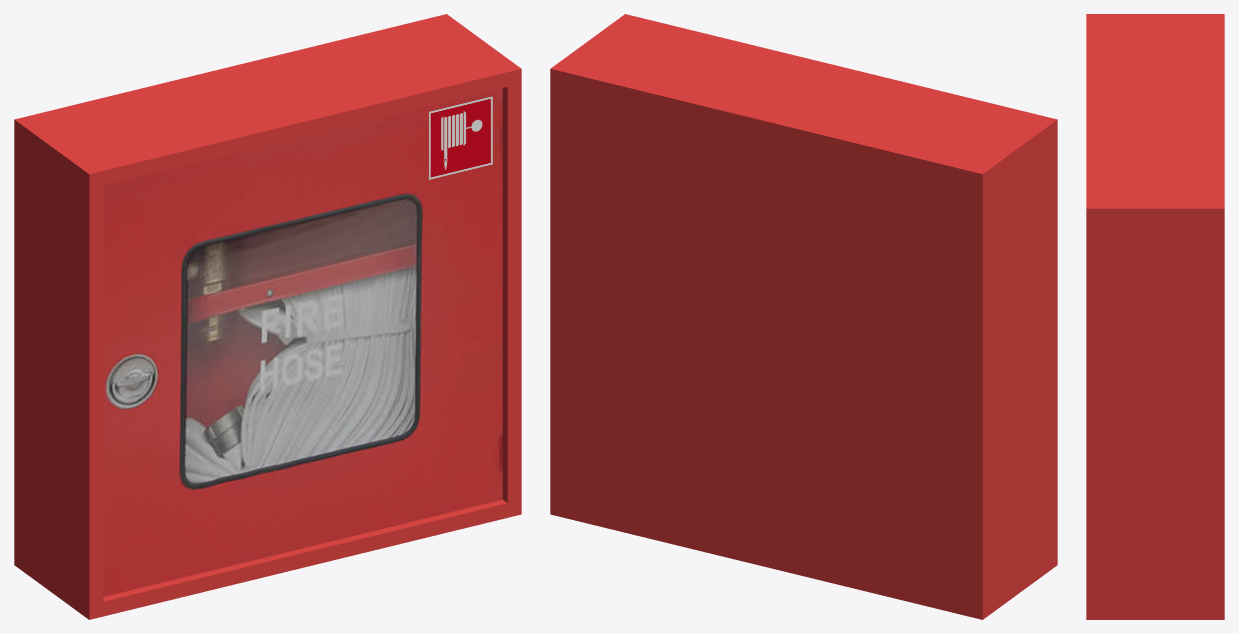
Rendered from Fire Hose.fbx.
3 renders of one model, left to right at view 1: azimuth 30°, elevation 25°; view 2: azimuth 150°, elevation 25°; view 3: azimuth 270°, elevation 25°, orthographic. The views are drawn at different scales.
Visible parts, largest first — view 1: Fire Hose; view 2: Fire Hose; view 3: Fire Hose.
Part boxes in pixels (box(x1,y1,x2,y2)): Fire Hose: box(14, 14, 521, 619); Fire Hose: box(550, 14, 1057, 619); Fire Hose: box(1086, 14, 1224, 619).
Bounding box in the file's own units: 60.05 × 59.15 × 18.
1 material, 1 textured.
